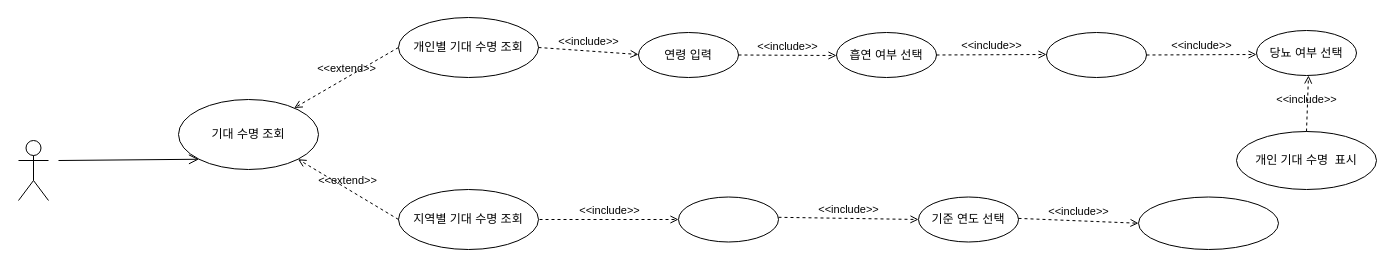
The diagram is 1394 pixels wide and 267 high, and some of its shapes have lost their labels. The centre of each missing label's shape, as x and y in pixels:
고혈압 여부 선택: the point at 1096,55
사용자: the point at 33,170
지역 기대 수명 표시: the point at 1208,223
지역 선택: the point at 728,219
